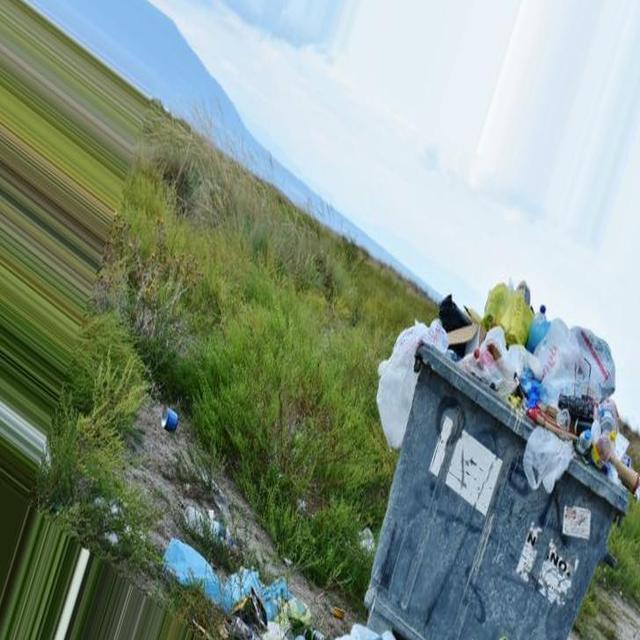garbage: (416, 278, 640, 471), (161, 538, 320, 640), (369, 320, 446, 449)
